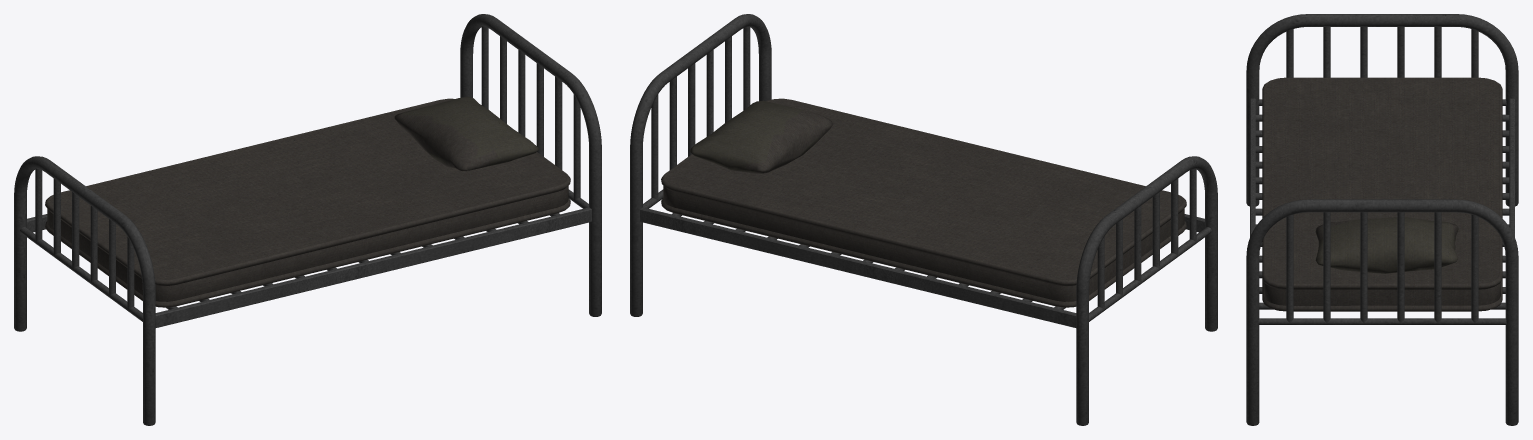
The model's file is bed_1.obj.
3 renders of one model, left to right at view 1: azimuth 30°, elevation 25°; view 2: azimuth 150°, elevation 25°; view 3: azimuth 270°, elevation 25°, orthographic.
Parts seen in each view (by area): view 1: bed_1; view 2: bed_1; view 3: bed_1.
Boxes of the visible parts, box(x1,y1,x2,y2) form: bed_1: box(14, 14, 601, 425); bed_1: box(630, 14, 1217, 425); bed_1: box(1246, 14, 1518, 425).
Bounding box in the file's own units: 2.87 × 1.34 × 1.47.
